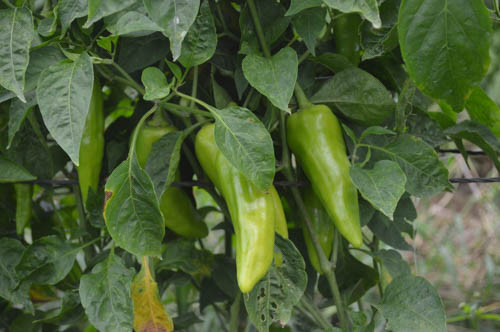ChiliPepper: (200, 127, 273, 299), (291, 108, 358, 242), (141, 122, 208, 236), (72, 80, 109, 212), (298, 185, 331, 271), (13, 176, 30, 239)
